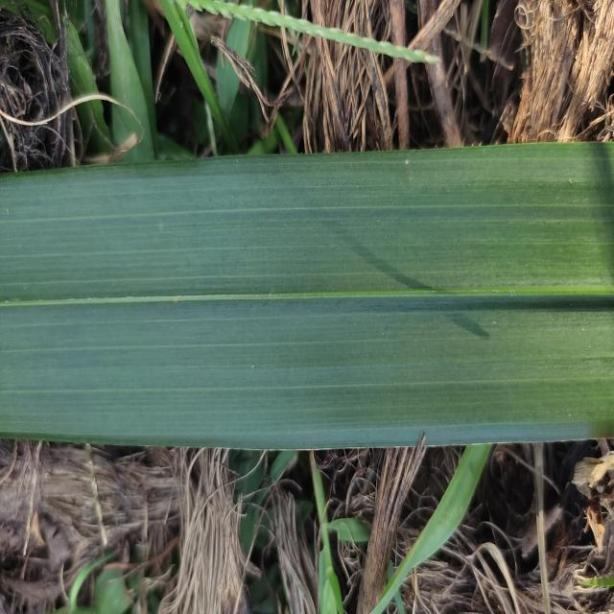Healthy: (0, 144, 614, 448)
